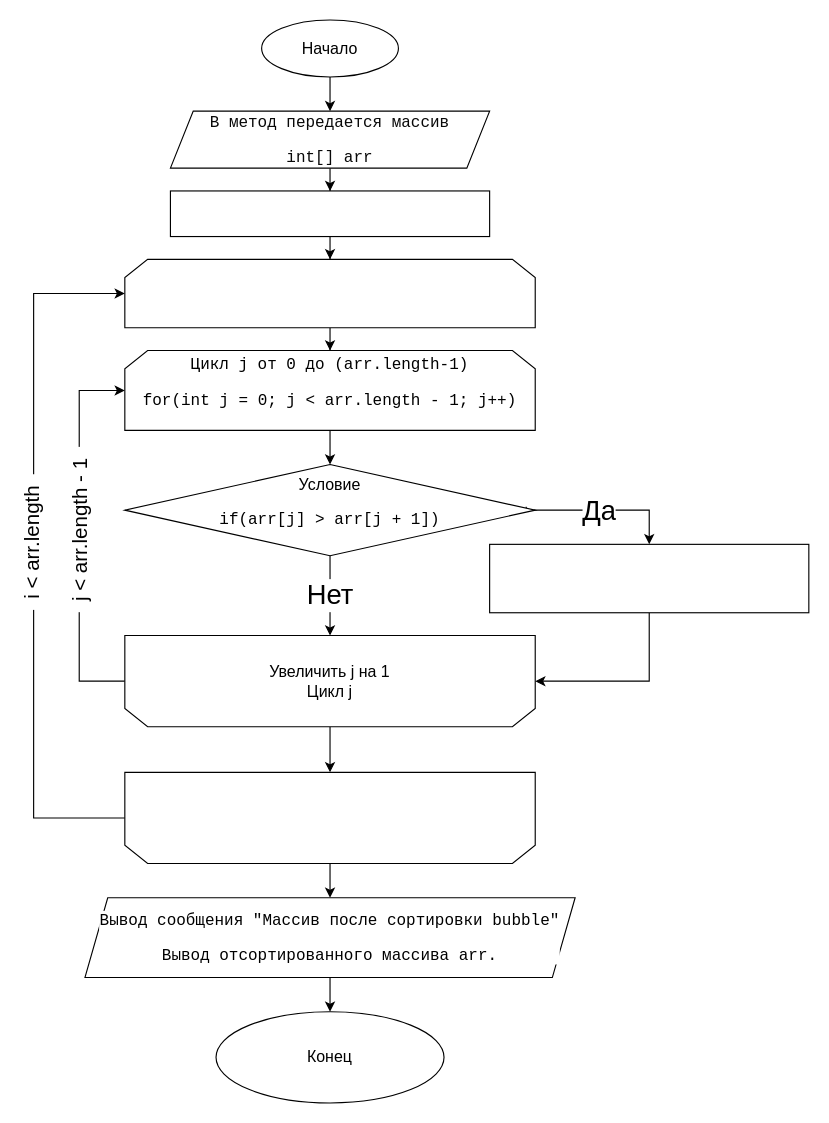
The diagram is 829 pixels wide and 1123 high, and some of its shapes have lost their labels. Each missing label, with the centre of its shape:
"temp = arr[j + 1]; arr[j + 1] = arr[j]; arr[j] = temp;" goes at (x=648, y=578).
"Создаем int temp для временного хранения данных" goes at (x=329, y=213).
"Увеличить i на 1 Цикл i" goes at (x=329, y=817).
"Цикл i от 0 до (rr.length for(int i = 0; i < arr.length; i++)" goes at (x=329, y=293).
